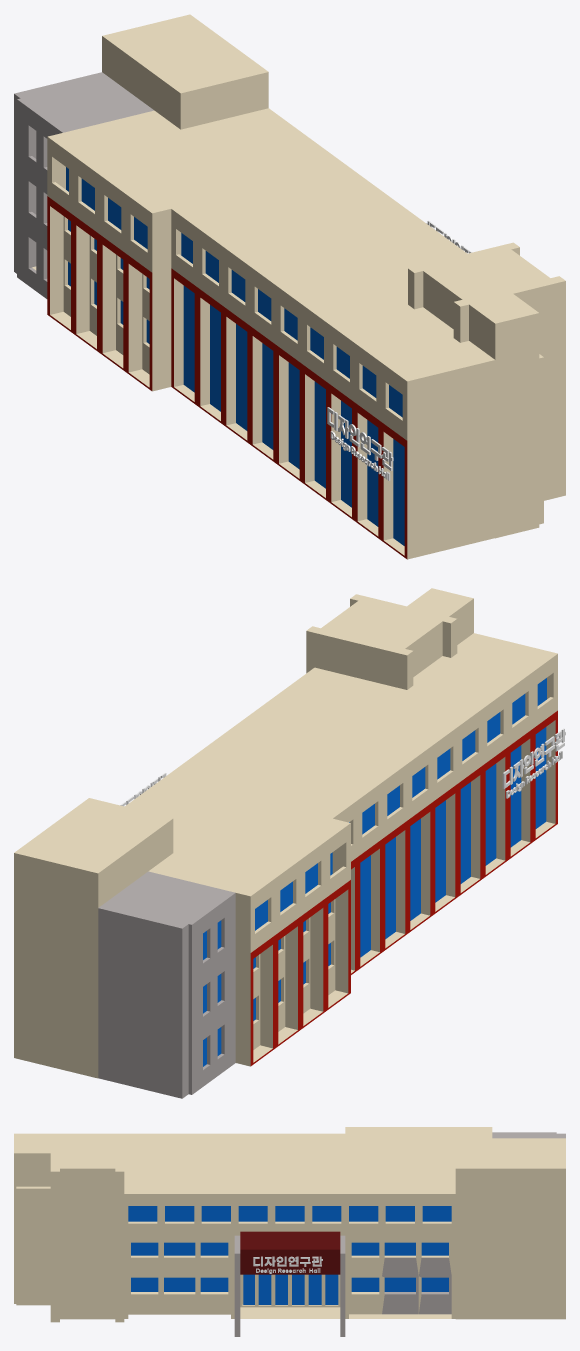
Rendered from 디자인연구관.fbx.
3 renders of one model, top to bottom at view 1: azimuth 30°, elevation 25°; view 2: azimuth 150°, elevation 25°; view 3: azimuth 270°, elevation 25°, orthographic. The views are drawn at different scales.
Parts seen in each view (by area): view 1: Cube, Cube_115, Cube_117, Extrude_1_2, inside; view 2: Cube, Cube_115, Cube_117, Extrude_1_2, Cube_116; view 3: Cube, Cube_96, inside, Cube_98, Cube_97, Cube_99, Extrude_1.
Boxes of the visible parts, x1,y1,x2,y2 form: Cube: (14,14,565,559); Cube_115: (181,233,404,545); Cube_117: (66,167,149,343); Extrude_1_2: (327,407,393,470); inside: (179,231,543,524); Cube: (14,588,557,1098); Cube_115: (332,678,546,957); Cube_117: (253,853,331,1020); Extrude_1_2: (502,728,565,788); Cube_116: (203,920,221,1066); Cube: (14,1127,565,1336); Cube_96: (128,1206,451,1221); inside: (16,1186,243,1305); Cube_98: (351,1242,448,1291); Cube_97: (131,1242,228,1291); Cube_99: (243,1274,338,1304); Extrude_1: (253,1256,322,1266).
Size of the model in its own units: 386 by 304 by 1011.
